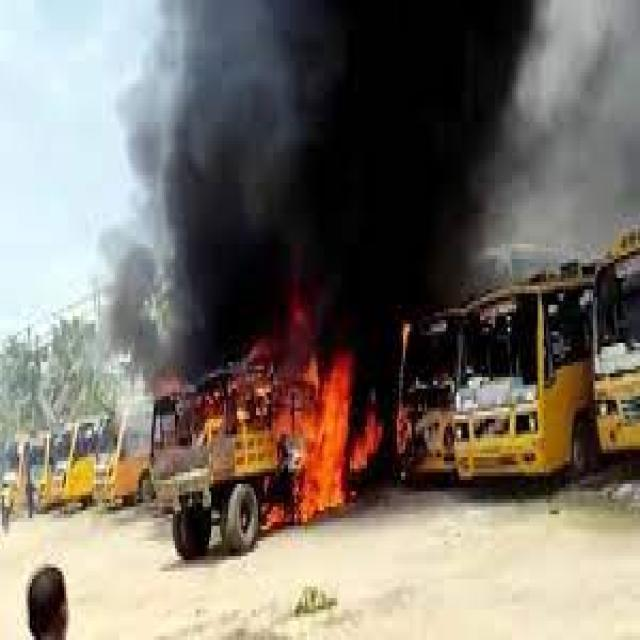Fire: (268, 298, 350, 522), (205, 344, 280, 442), (351, 410, 384, 472), (397, 410, 412, 460), (402, 319, 414, 362)
Smoke: (117, 0, 640, 316), (115, 316, 268, 399), (405, 316, 540, 383), (349, 316, 402, 409)
